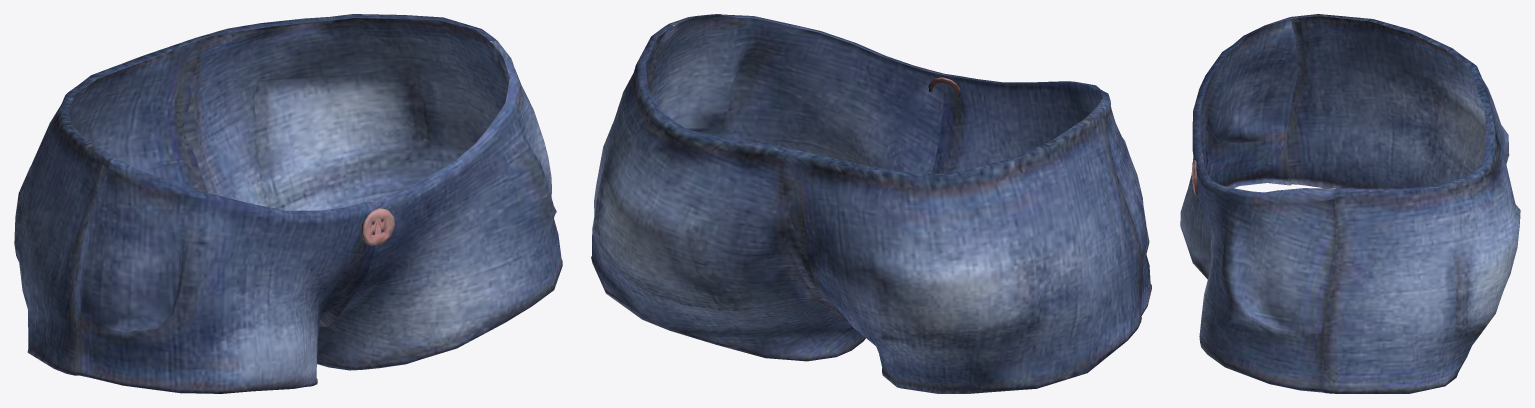
The model's file is shorts_seller.glb.
3 renders of one model, left to right at view 1: azimuth 30°, elevation 25°; view 2: azimuth 150°, elevation 25°; view 3: azimuth 270°, elevation 25°, orthographic. The views are drawn at different scales.
Parts seen in each view (by area): view 1: shorts_seller_out; view 2: shorts_seller_out; view 3: shorts_seller_out.
Boxes of the visible parts, x1=… form: shorts_seller_out: x1=14, y1=14, x2=562, y2=393; shorts_seller_out: x1=591, y1=14, x2=1151, y2=393; shorts_seller_out: x1=1180, y1=14, x2=1520, y2=393.
Size of the model in its own units: 447 by 237 by 302.
1 material, 1 textured.
